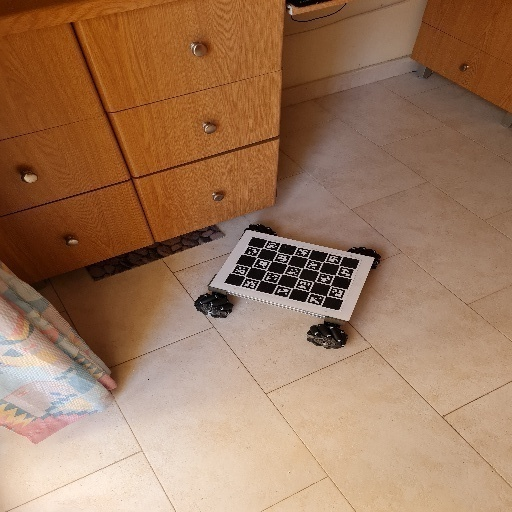Omniwheel: (194, 224, 383, 351)
